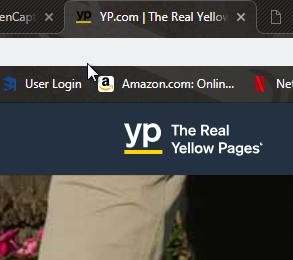cursor: (85, 62, 99, 83)
